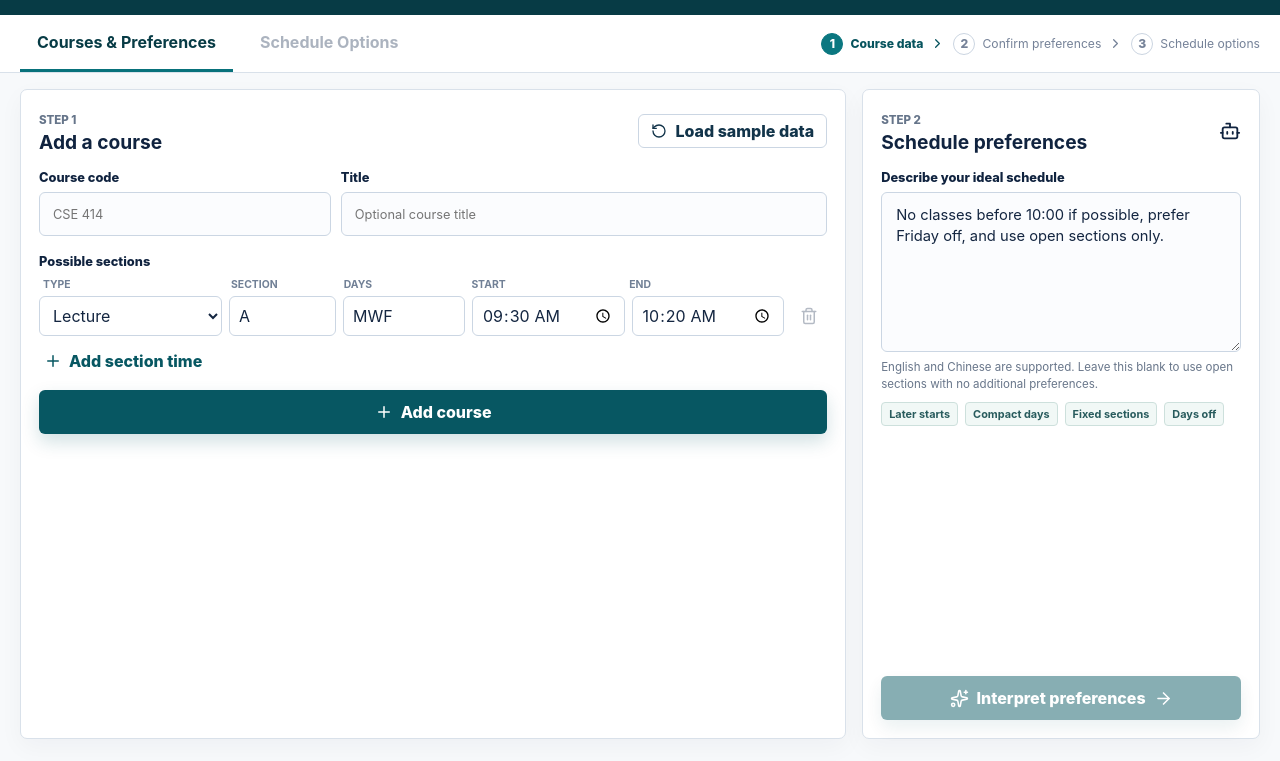
Test: App › supports the parse, confirm, generate, and option review flow
The image size is (1280, 761).
Click the button "Load sample data": (733, 131) 638,114 -> 827,148
(page scrolled)
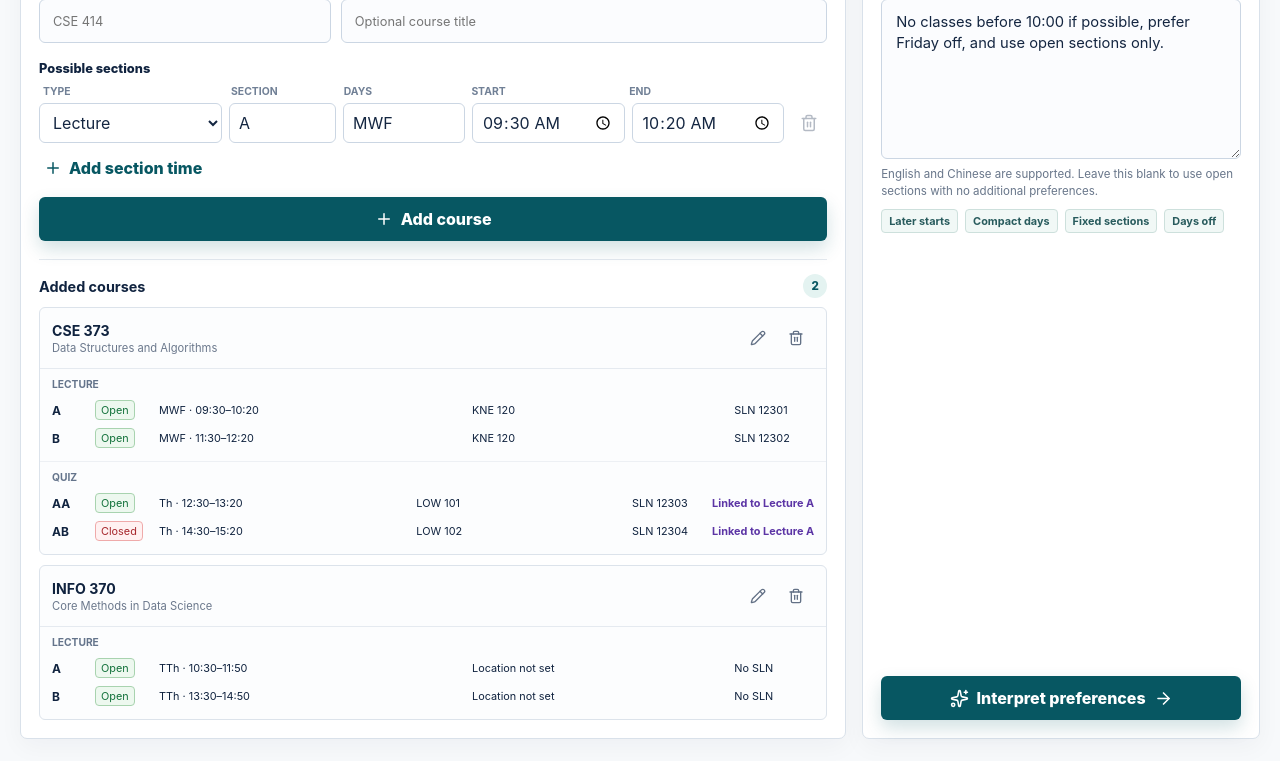
Click the button "Interpret preferences": (1061, 698) 881,676 -> 1241,720
(page scrolled)
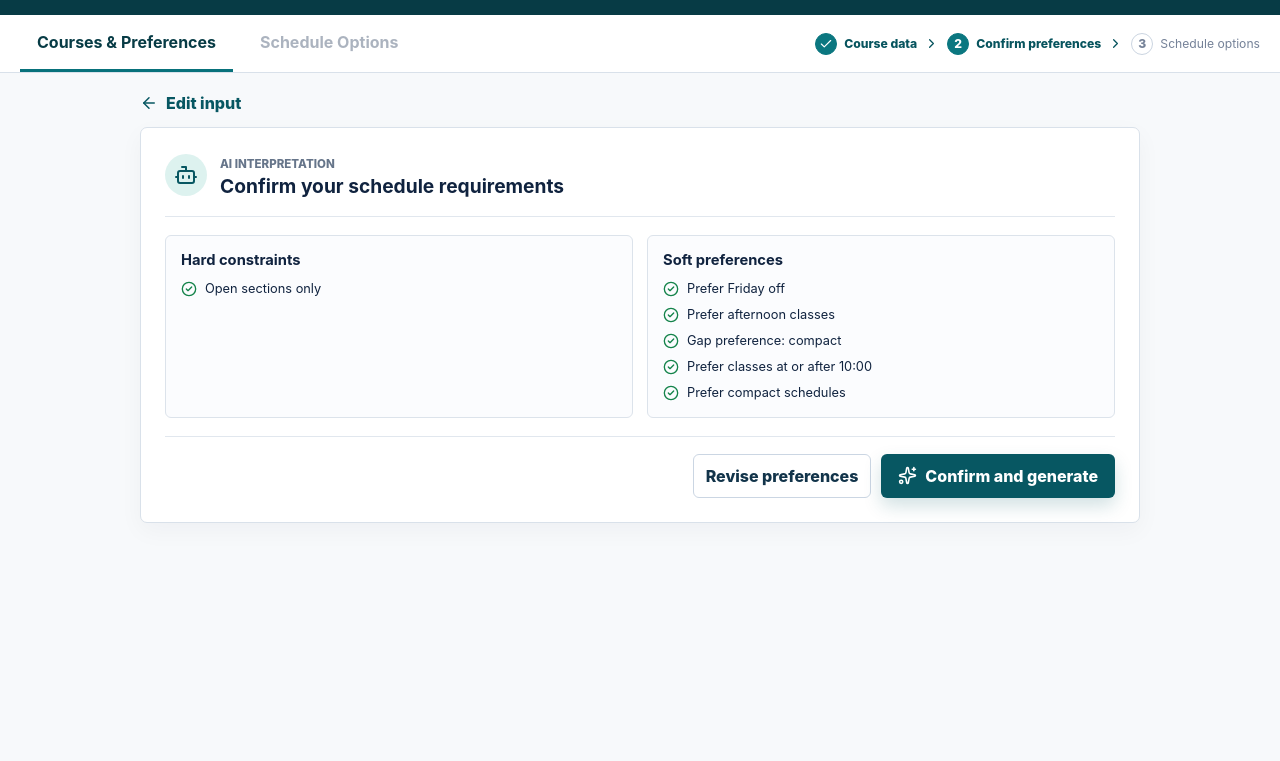
Result: the heading "Confirm your schedule requirements" is shown at 220,174 -> 564,198
Click the button "Confirm and generate": (998, 476) 881,454 -> 1115,498
(page scrolled)
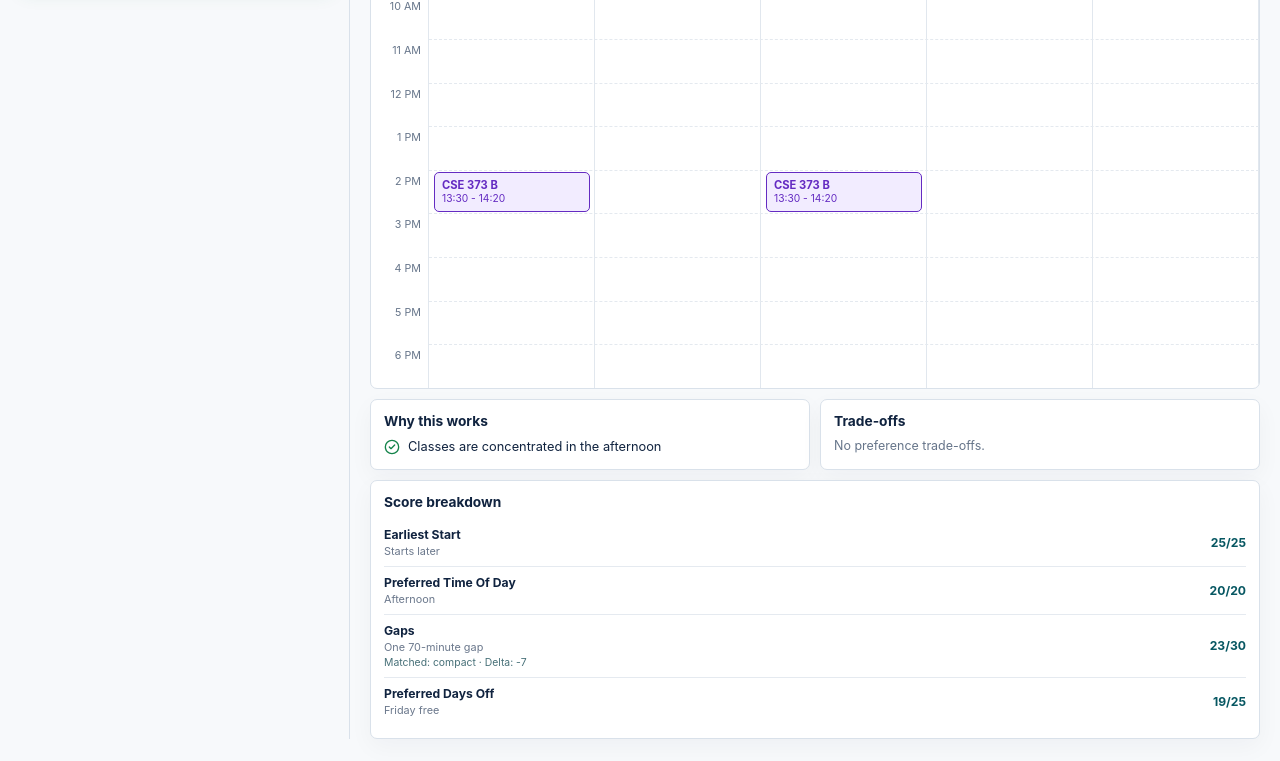
Result: the text "CSE 373 B" is shown 2 times at 442,178 -> 498,192; 774,178 -> 830,192
Result: the text "Matched: compact · Delta: -7" is shown at 384,656 -> 526,669
